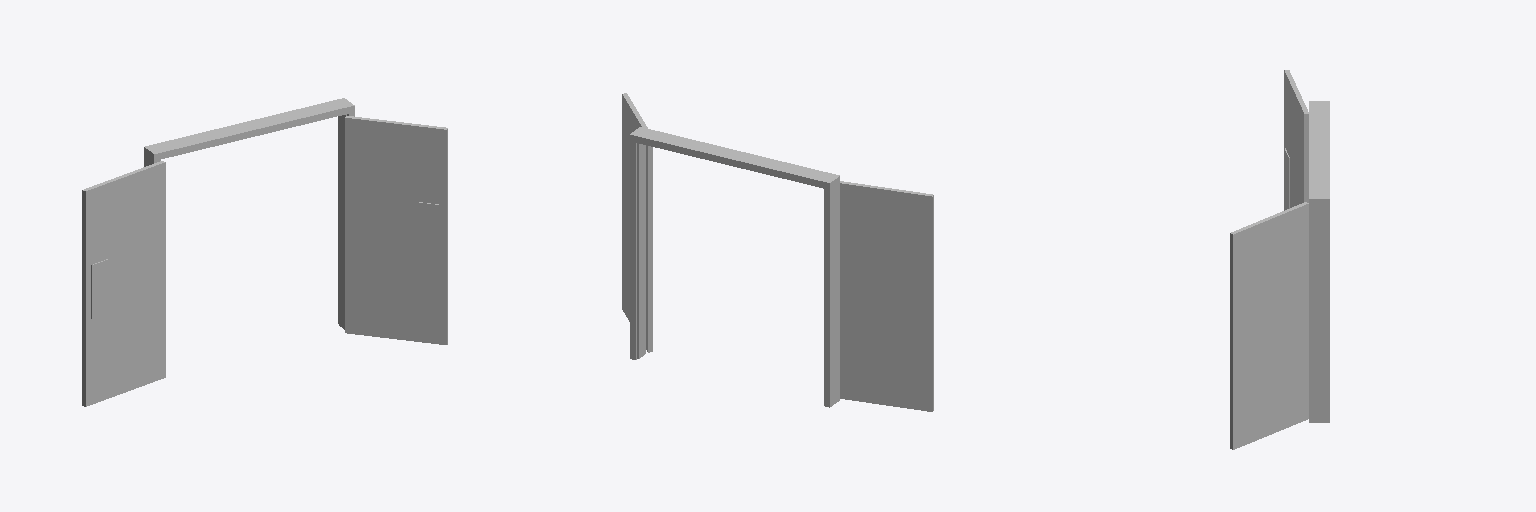
File: VIPOuterDoors.obj
3 views of the same model, side by side, from view 1: azimuth 30°, elevation 25°; view 2: azimuth 150°, elevation 25°; view 3: azimuth 270°, elevation 25° (orthographic).
Visible parts, largest first — view 1: Cube.002_Cube.005; view 2: Cube.002_Cube.005; view 3: Cube.002_Cube.005.
Part boxes in pixels (x1,y1,x2,y2): Cube.002_Cube.005: (82,98,447,406); Cube.002_Cube.005: (622,93,933,411); Cube.002_Cube.005: (1230,70,1329,449).
Bounding box in the file's own units: 3.55 × 2.25 × 0.9088.